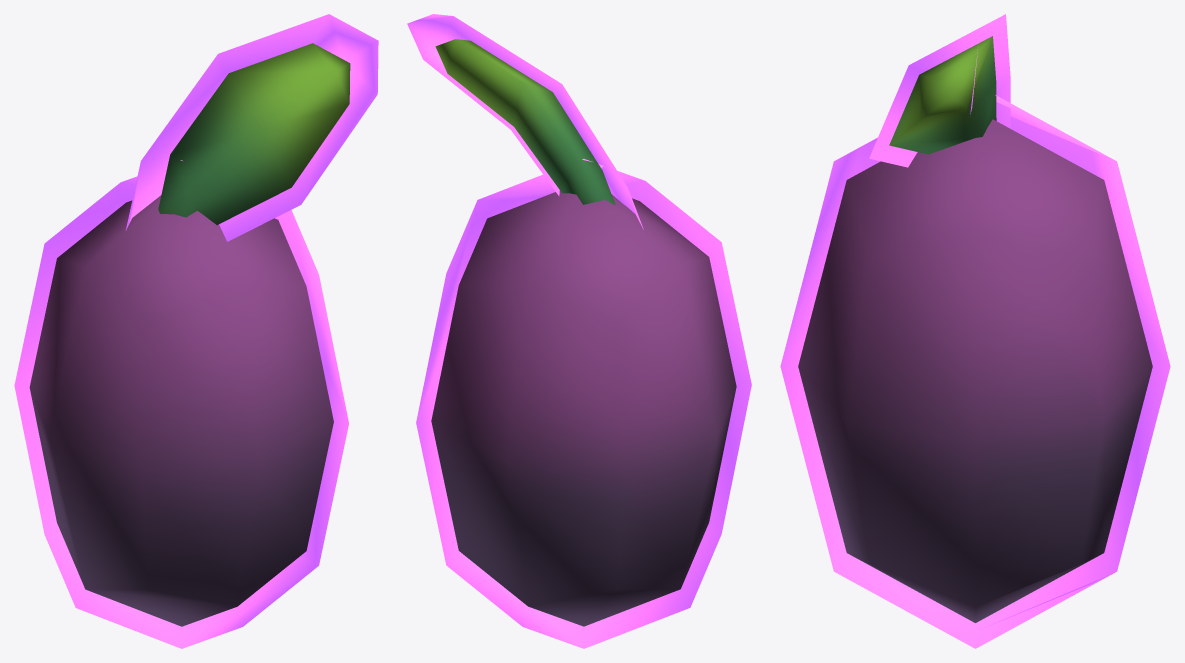
The model's file is legendarySeed.glb.
3 renders of one model, left to right at view 1: azimuth 30°, elevation 25°; view 2: azimuth 150°, elevation 25°; view 3: azimuth 270°, elevation 25°, orthographic. The views are drawn at different scales.
Parts seen in each view (by area): view 1: LegendarySeed; view 2: LegendarySeed; view 3: LegendarySeed.
Part boxes in pixels (x1=…): LegendarySeed: x1=14, y1=14, x2=378, y2=648; LegendarySeed: x1=407, y1=14, x2=751, y2=648; LegendarySeed: x1=780, y1=14, x2=1170, y2=648.
Size of the model in its own units: 0.549 by 0.9425 by 0.4823.
2 materials, 1 textured.
